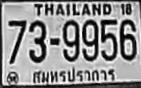3: (28, 19, 45, 62)
5: (100, 18, 117, 60)
6: (119, 18, 136, 60)
7: (8, 19, 26, 63)
9: (62, 19, 79, 61), (81, 18, 98, 60)
SPK: (31, 68, 119, 86)
